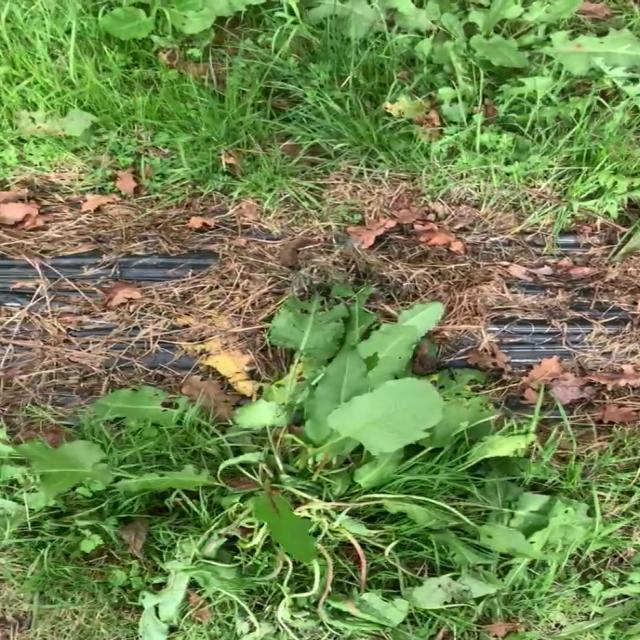organic waste: (3, 273, 556, 640), (317, 0, 640, 126), (77, 0, 255, 52)
